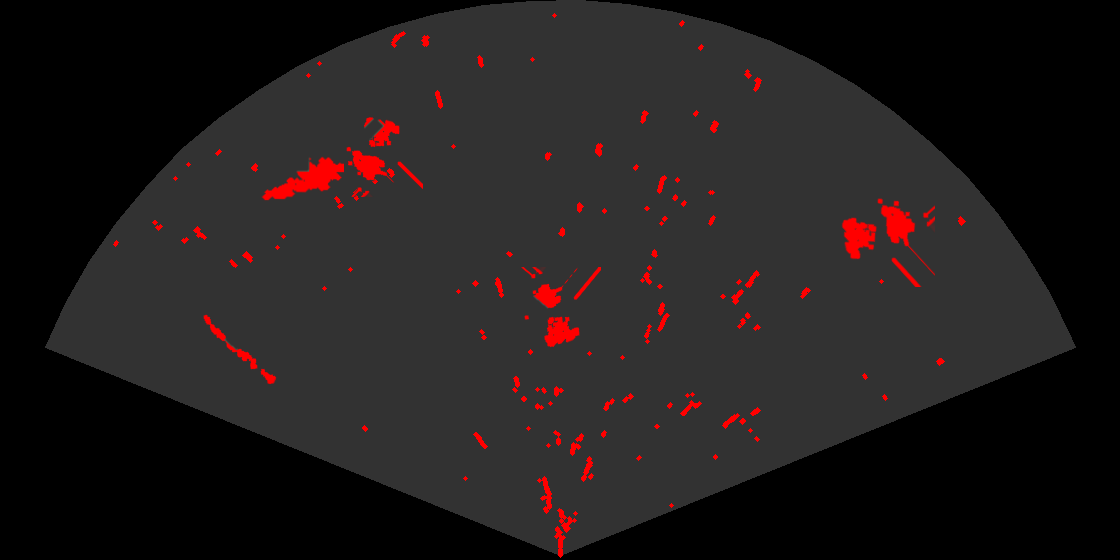cage: (840, 197, 935, 287), (520, 267, 601, 349), (345, 116, 423, 197)
chain: (202, 313, 278, 386)
frogman: (261, 155, 344, 202)
